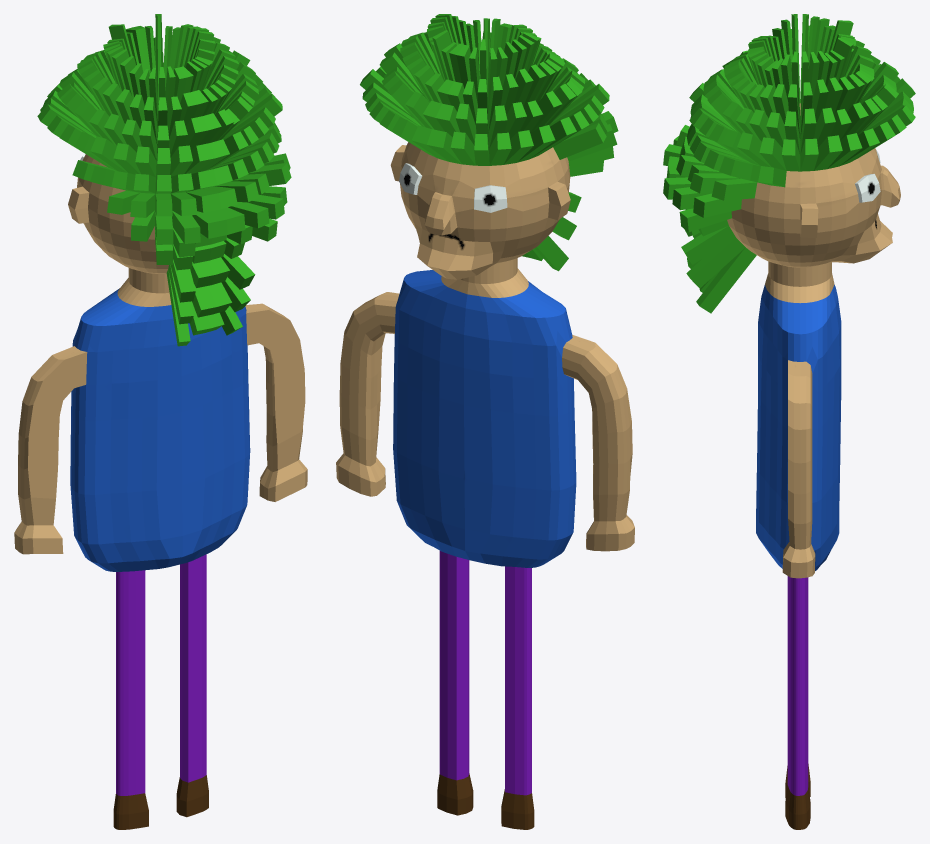
Rendered from player.obj.
3 views of the same model, side by side, from view 1: azimuth 30°, elevation 25°; view 2: azimuth 150°, elevation 25°; view 3: azimuth 270°, elevation 25° (orthographic). The views are drawn at different scales.
Visible parts, largest first — view 1: Sphere; view 2: Sphere; view 3: Sphere.
Boxes of the visible parts, box(x1,y1,x2,y2) form: Sphere: box(14, 14, 307, 829); Sphere: box(336, 14, 634, 829); Sphere: box(663, 14, 915, 829).
Bounding box in the file's own units: 3.93 × 10.28 × 3.03.
Materials: 1 (1 with a texture image).
